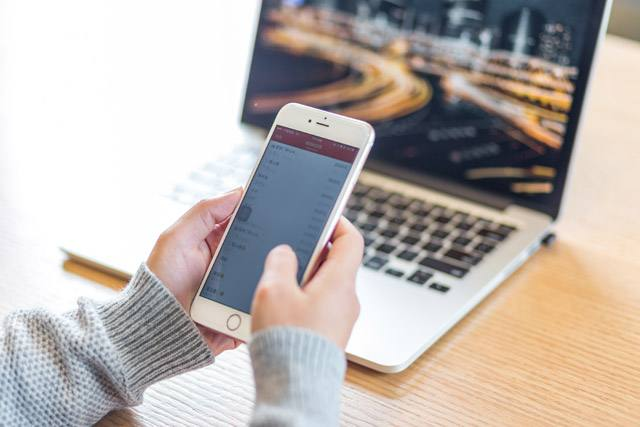reading: (138, 97, 378, 372)
